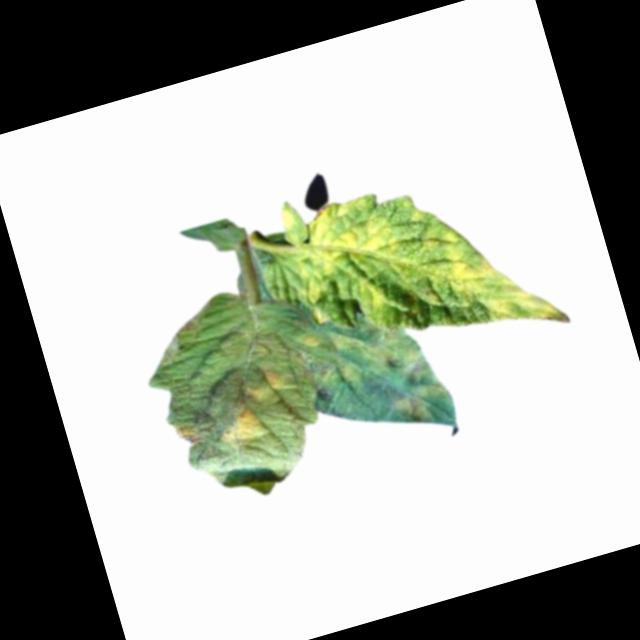Leaf_Mold: (392, 160, 570, 360), (294, 296, 455, 450), (279, 189, 422, 334), (216, 400, 270, 449), (240, 362, 290, 402), (170, 420, 204, 449)
